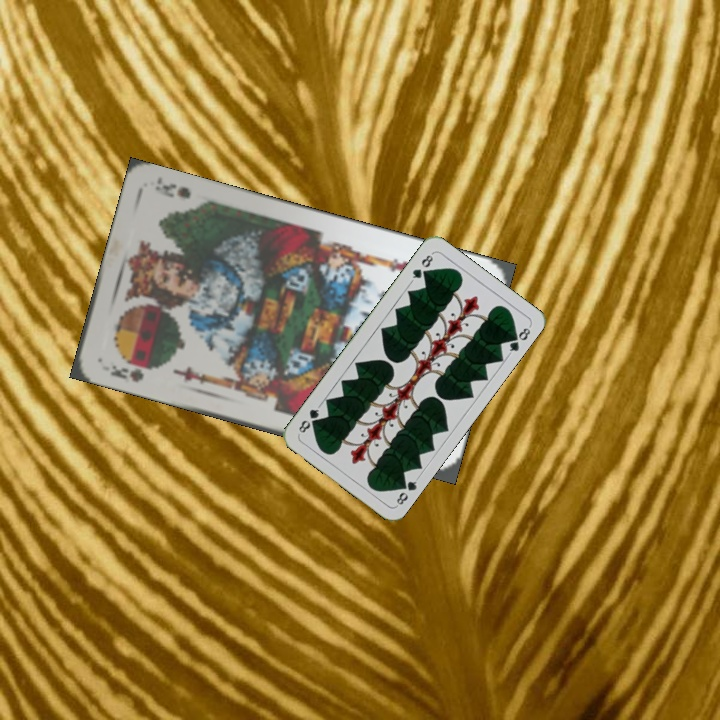G8: (392, 473, 421, 509), (407, 249, 436, 284)
SK: (106, 361, 147, 385)
